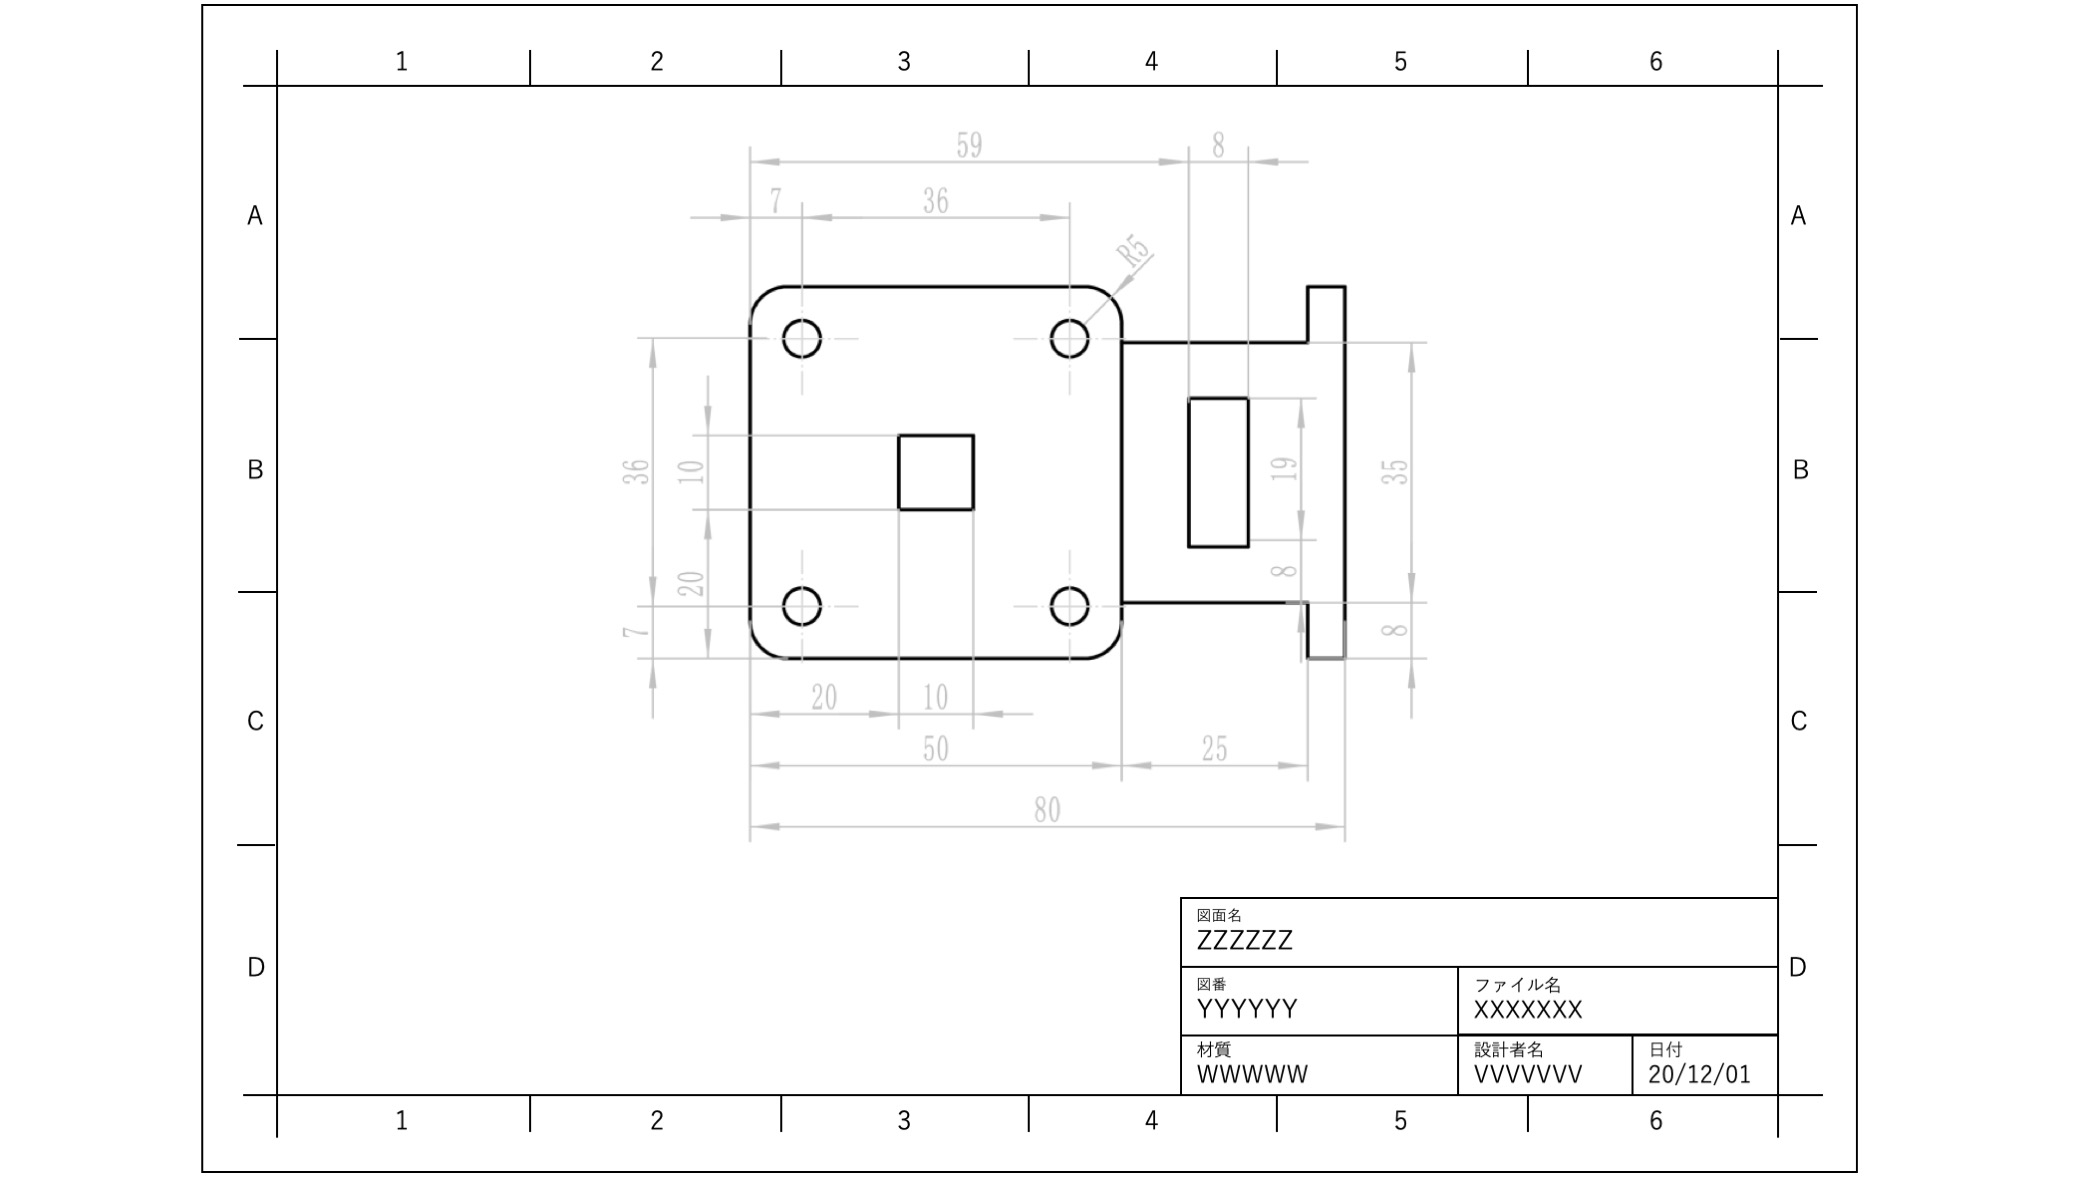circle: (772, 578, 826, 629), (775, 316, 829, 363), (1041, 314, 1093, 361), (1044, 583, 1090, 630)
rectangle: (1178, 386, 1256, 554), (888, 424, 984, 521)
